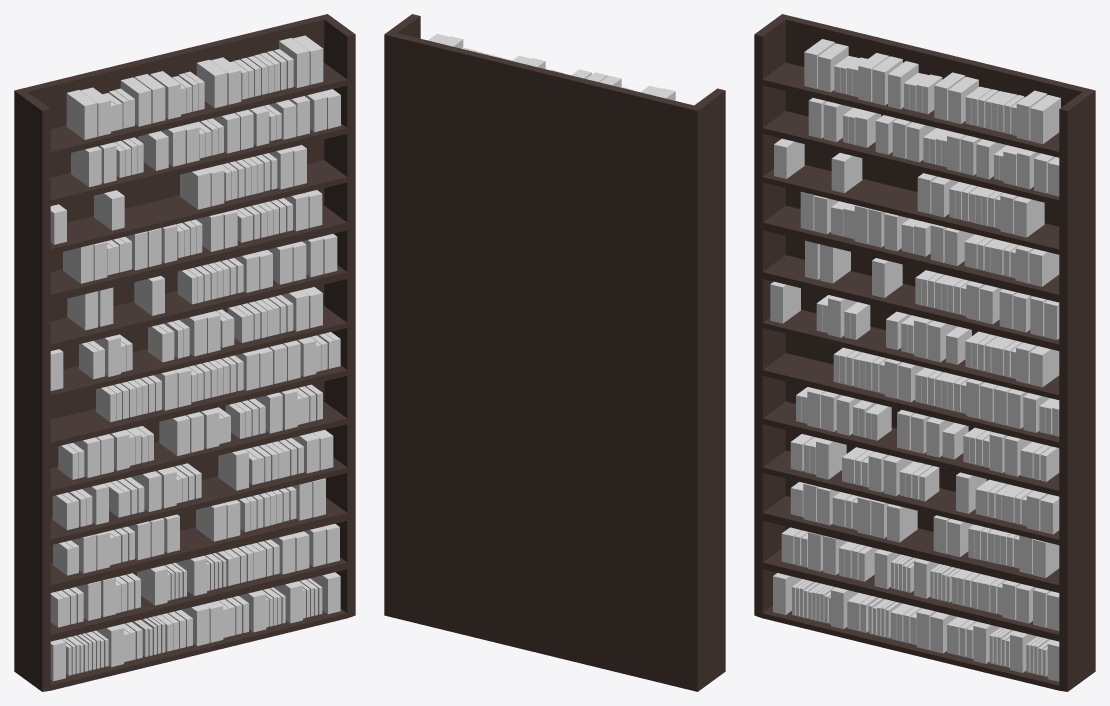
Rendered from Books.fbx.
3 renders of one model, left to right at view 1: azimuth 30°, elevation 25°; view 2: azimuth 150°, elevation 25°; view 3: azimuth 330°, elevation 25°, orthographic.
Visible parts, largest first — view 1: Cube.070, Cube.026, Cube.154, Cube.156, Cube.109, Cube.162, Cube.147, Cube.111, Cube.149, Cube.132, Cube.136, Cube.120 (+91 smaller); view 2: Cube.070, Cube.026; view 3: Cube.070, Cube.026, Cube.363, Cube.128, Cube.149, Cube.353, Cube.323, Cube.146, Cube.132, Cube.110, Cube.130, Cube.104 (+88 smaller).
Part boxes in pixels (x1,y1,x2,y2): Cube.070: (14,14,355,401); Cube.026: (14,325,355,691); Cube.154: (66,90,97,139); Cube.156: (196,59,227,107); Cube.109: (218,449,248,490); Cube.162: (180,168,210,209); Cube.147: (71,146,101,187); Cube.111: (159,415,189,455); Cube.149: (94,190,124,230); Cube.132: (134,276,164,315); Cube.136: (63,244,93,283); Cube.120: (196,503,226,541); Cube.070: (384,14,725,401); Cube.026: (384,325,725,691); Cube.070: (754,14,1095,401); Cube.026: (754,325,1095,691); Cube.363: (1030,95,1060,144); Cube.128: (770,281,800,323); Cube.149: (831,153,862,193); Cube.353: (1014,196,1044,237); Cube.323: (1030,346,1059,387); Cube.146: (774,138,804,178); Cube.132: (872,258,902,297); Cube.110: (816,438,846,479); Cube.130: (820,244,850,283); Cube.104: (887,504,917,542).
Bounding box in the file's own units: 1565 × 2775 × 242.
